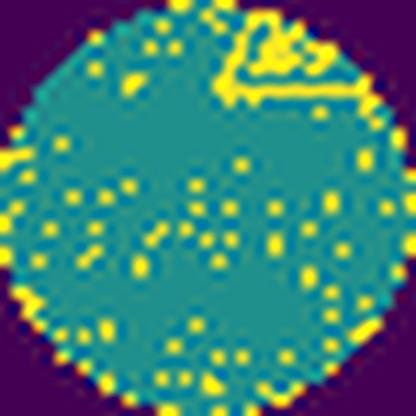Loc: (212, 9, 382, 122)
